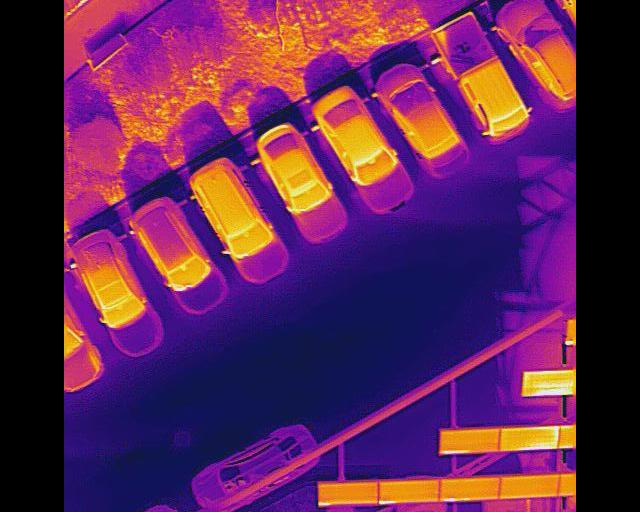No-Anomaly: (438, 475, 500, 500), (378, 478, 441, 502), (317, 481, 380, 505), (498, 474, 558, 497)
Unclassified: (499, 426, 561, 450), (440, 428, 500, 452), (523, 371, 575, 397)
